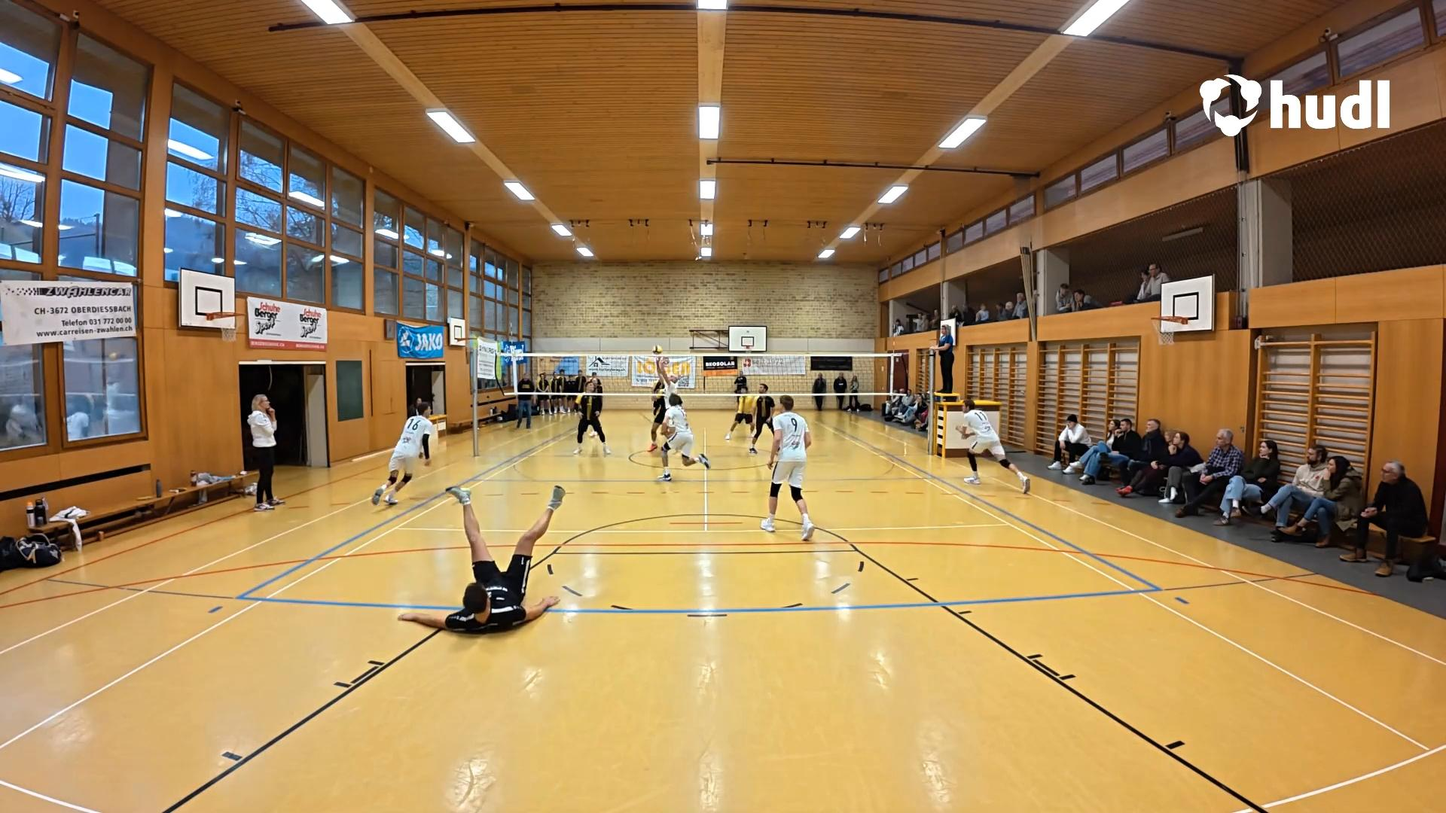Player: (398, 489, 569, 635), (755, 397, 816, 548), (954, 402, 1032, 492), (374, 403, 434, 507), (657, 393, 711, 483), (573, 379, 612, 454), (726, 378, 760, 449), (749, 380, 778, 456)
Set: (645, 344, 680, 464)
ball: (648, 340, 668, 356)
